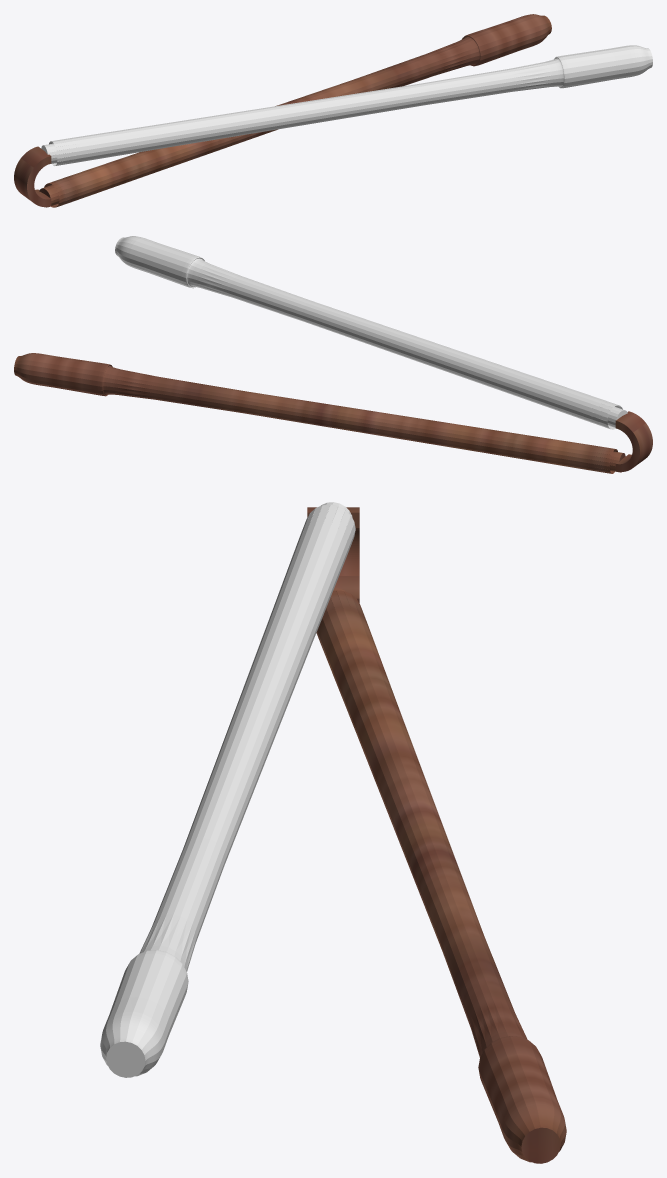
File: Handtools_wooden_tongs__0061.glb
The picture shows the model from 3 angles, top to bottom: view 1: azimuth 30°, elevation 25°; view 2: azimuth 150°, elevation 25°; view 3: azimuth 270°, elevation 25°; orthographic projection. The views are drawn at different scales.
Visible parts, largest first — view 1: moving_arm::arm_strip_1, fixed_arm::arm_strip_0, fixed_arm::wood_bend; view 2: fixed_arm::arm_strip_0, moving_arm::arm_strip_1, fixed_arm::wood_bend; view 3: moving_arm::arm_strip_1, fixed_arm::arm_strip_0, fixed_arm::wood_bend.
Part boxes in pixels (x1,y1,x2,y2): moving_arm::arm_strip_1: (41, 45, 652, 165); fixed_arm::arm_strip_0: (39, 14, 551, 207); fixed_arm::wood_bend: (14, 146, 51, 207); fixed_arm::arm_strip_0: (14, 353, 625, 473); moving_arm::arm_strip_1: (115, 236, 627, 429); fixed_arm::wood_bend: (615, 411, 652, 471); moving_arm::arm_strip_1: (100, 502, 355, 1077); fixed_arm::arm_strip_0: (316, 588, 566, 1163); fixed_arm::wood_bend: (307, 507, 359, 603).
Bounding box in the file's own units: 0.3381 × 0.0406 × 0.118.
Materials: 2 (1 with a texture image).
